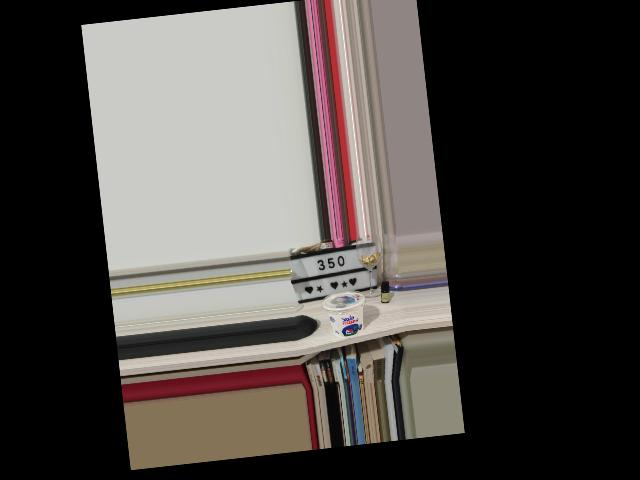cotage: (324, 288, 366, 341)
